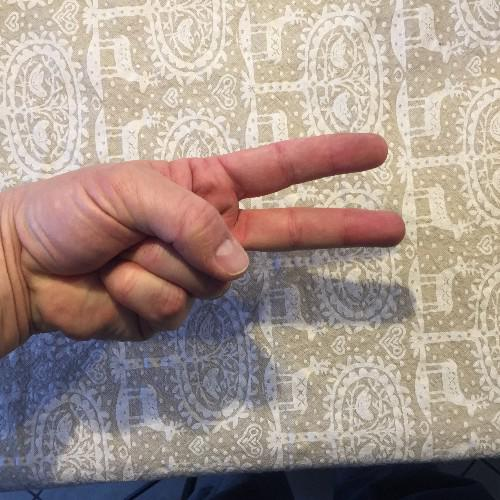scissors: (17, 128, 410, 344)
